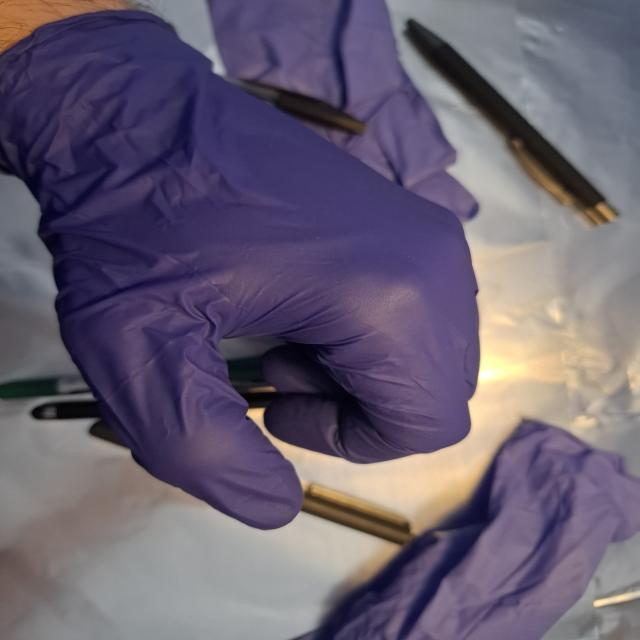glove_on: (0, 9, 492, 534)
